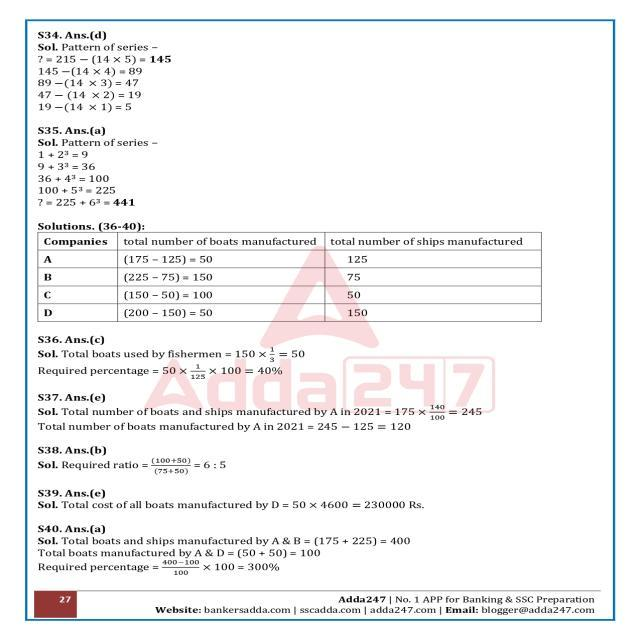Description: (34, 28, 592, 118), (34, 124, 592, 212), (34, 329, 592, 387), (32, 522, 590, 580), (34, 388, 592, 437), (34, 440, 592, 483), (34, 482, 592, 516)
Question_Paper_Area: (34, 28, 592, 580)
